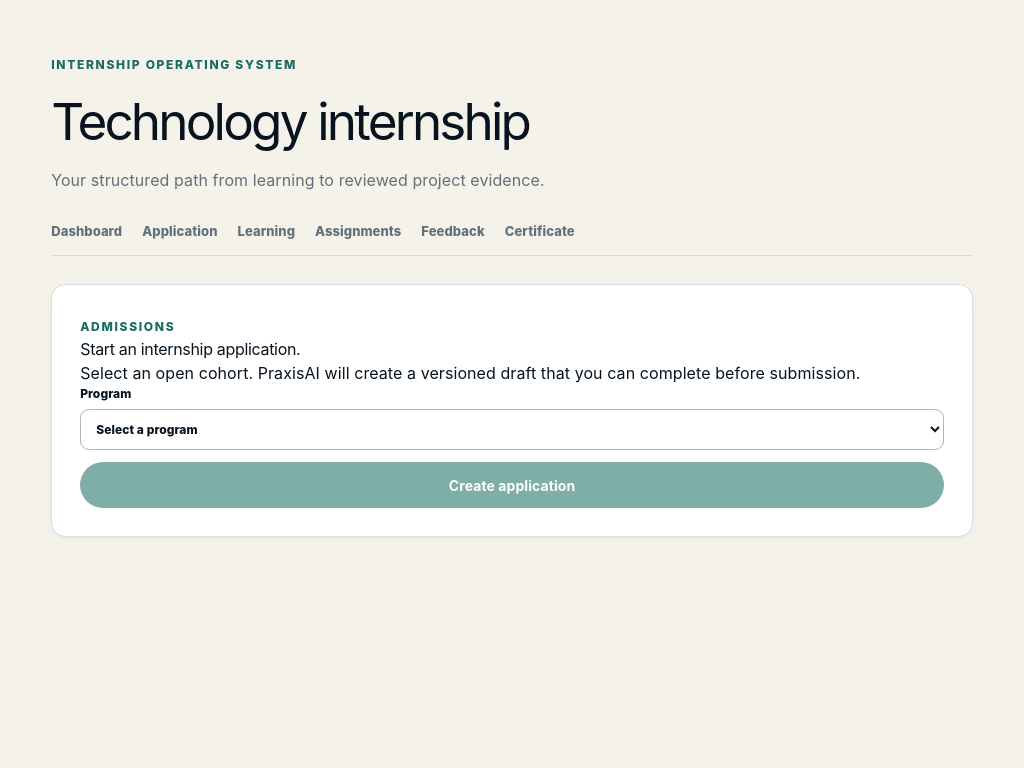
Test: InternshipStudentPortal › creates the first application instead of leaving the student in a loading state
Expected: the heading "Start an internship application." is shown, [80,339,300,359]
Select "Engineering Internship" in the dropdown labelled "Program" at (512, 430), box [80,409,944,450]
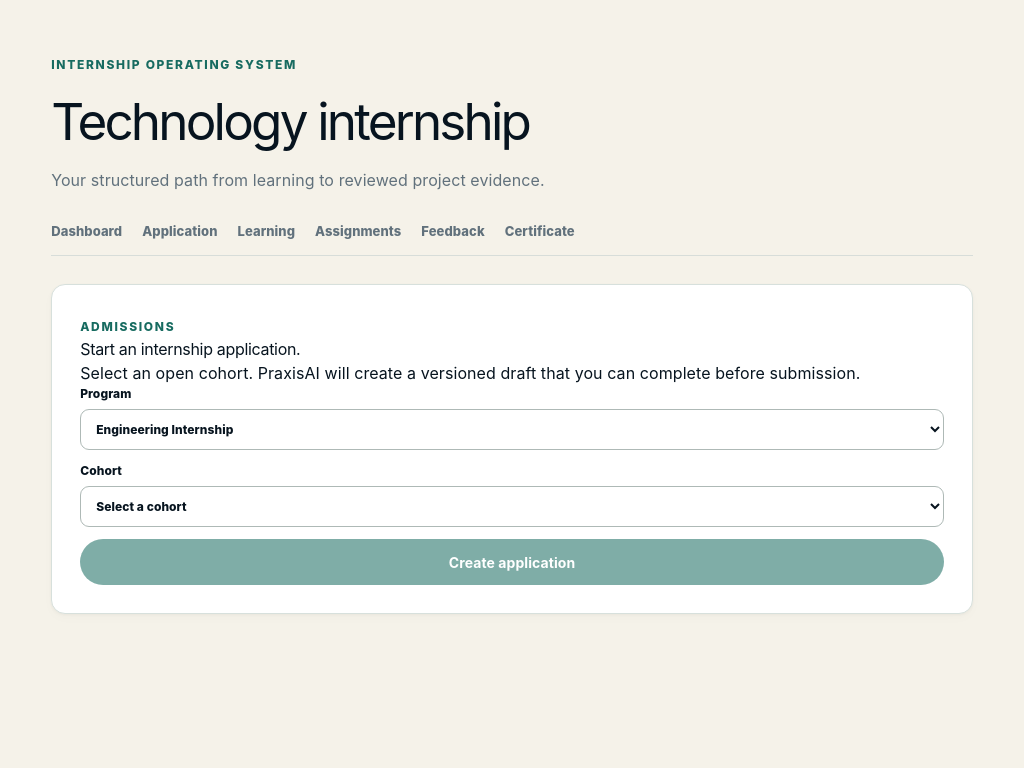
Select "September cohort" in the dropdown labelled "Cohort" at (512, 507), box [80,486,944,527]
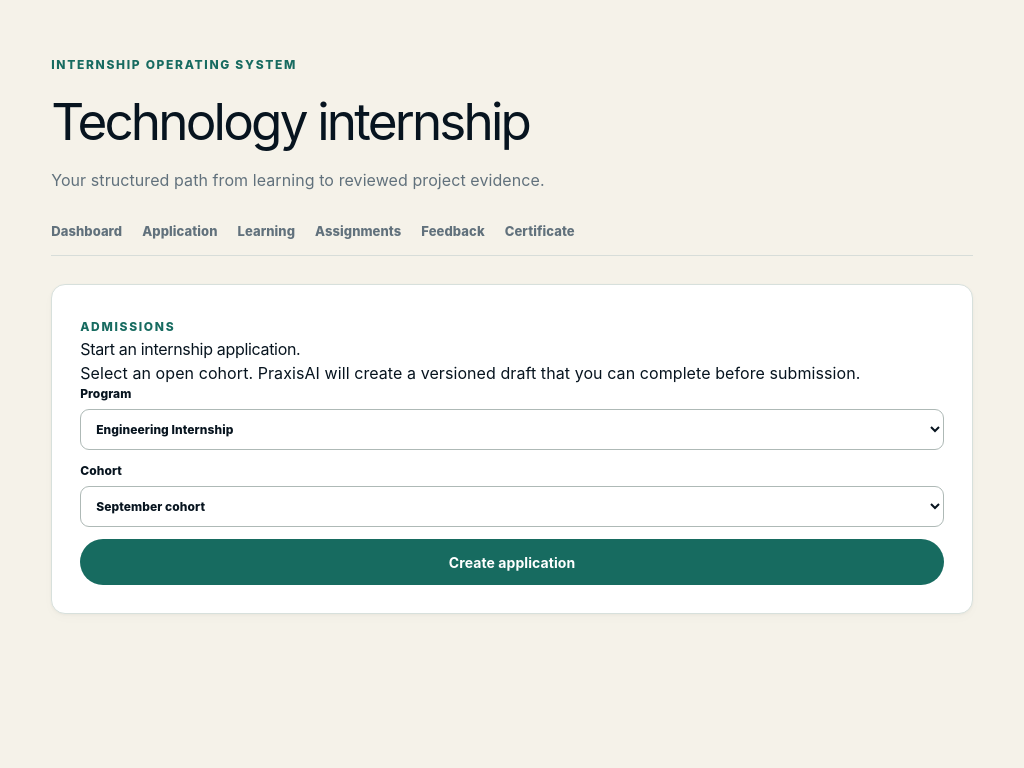
Click the button "Create application".
click(512, 562)  # box [80,539,944,585]
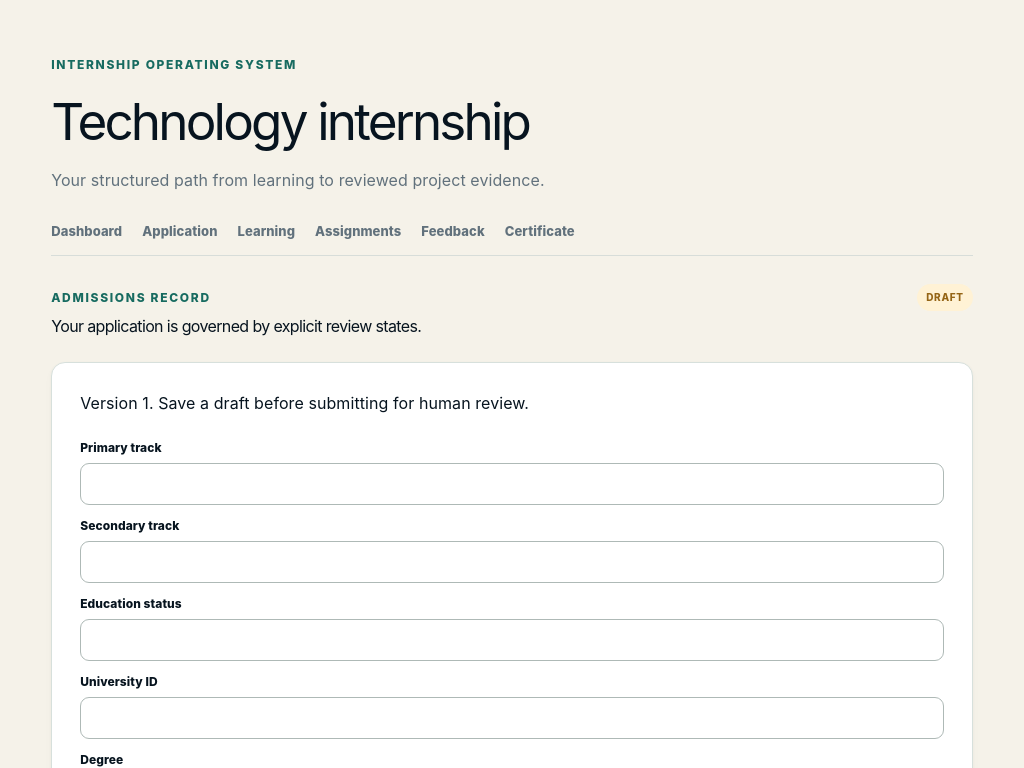
Expected: the heading "Your application is governed by explicit review states." is shown, [51,314,421,338]
